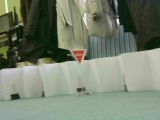stop: (68, 47, 88, 65)
